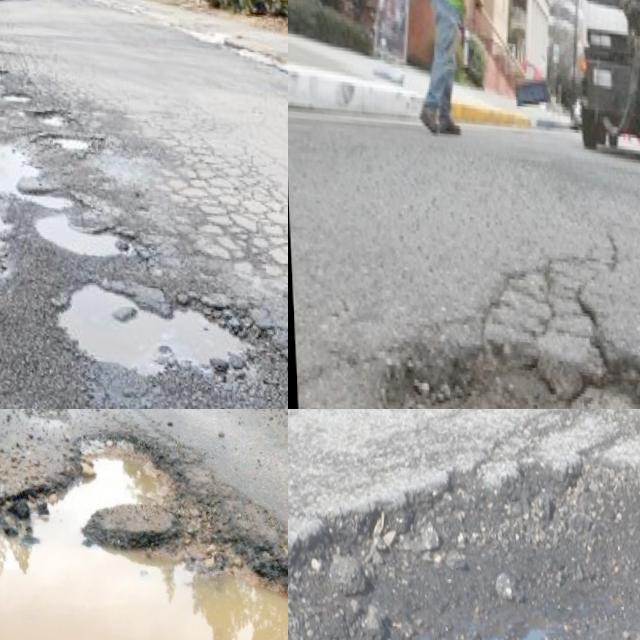Potholes: (0, 409, 288, 640), (288, 446, 620, 640), (363, 263, 640, 409), (51, 243, 284, 409), (0, 41, 111, 215), (0, 153, 146, 284), (0, 348, 126, 409)
